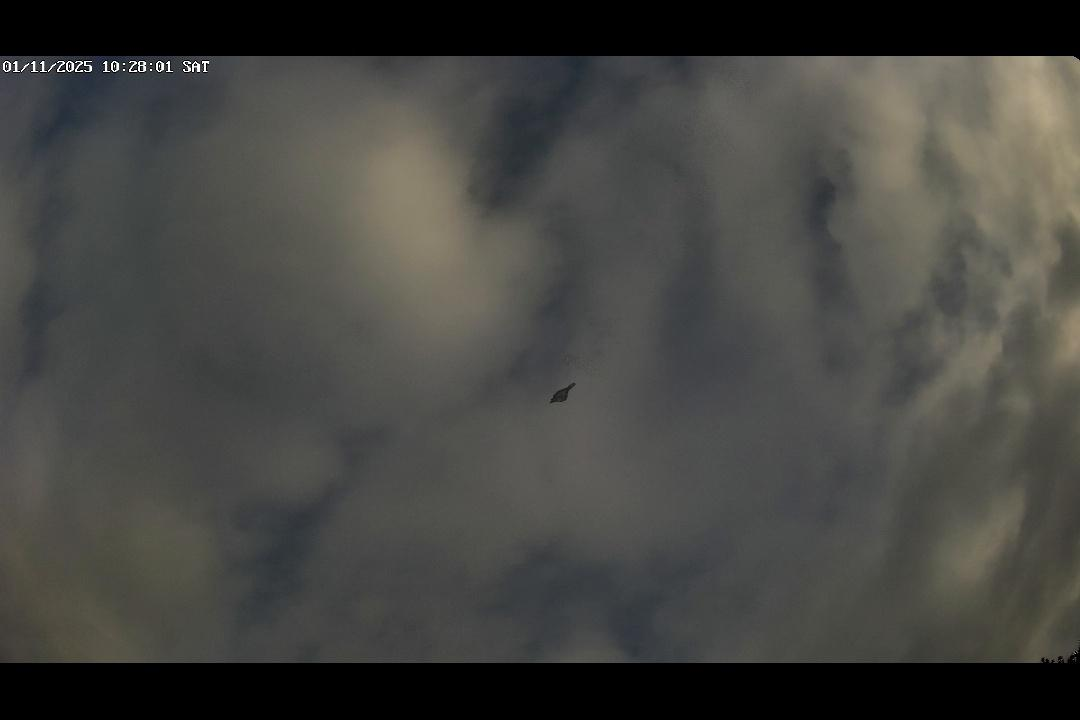WildLife: (531, 376, 595, 411)
